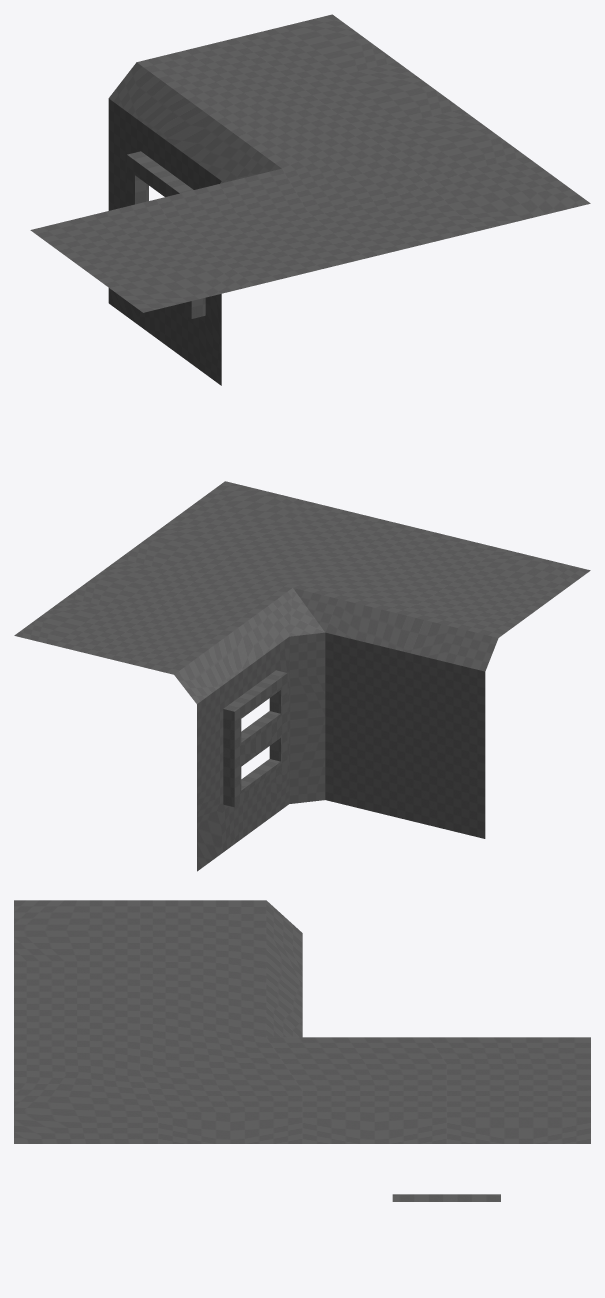
3 views of the same model, one above another, from view 1: azimuth 30°, elevation 25°; view 2: azimuth 150°, elevation 25°; view 3: azimuth 270°, elevation 25° (orthographic). The views are drawn at different scales.
Visible parts, largest first — view 1: 1; view 2: 1; view 3: 1.
Part boxes in pixels (bbox=[...]): 1: bbox=[30, 14, 590, 385]; 1: bbox=[14, 481, 590, 871]; 1: bbox=[14, 900, 590, 1201].
Size of the model in its own units: 4 by 2 by 4.
2 materials, 2 textured.
